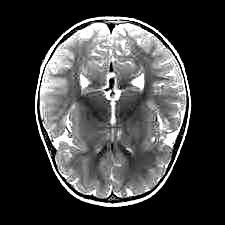Normal_Brain: (4, 2, 225, 225)
